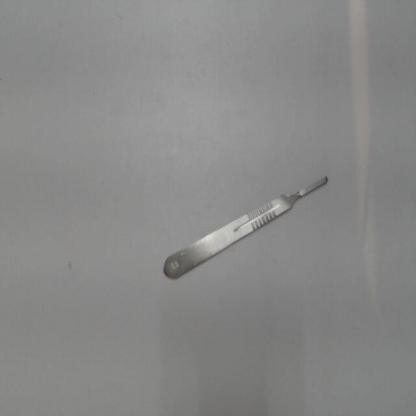No.4 BP Handle: (150, 160, 338, 291)
